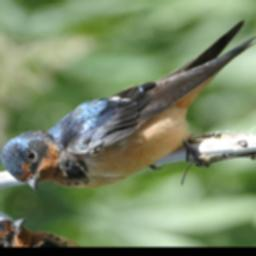Swallow: (0, 0, 256, 230)
